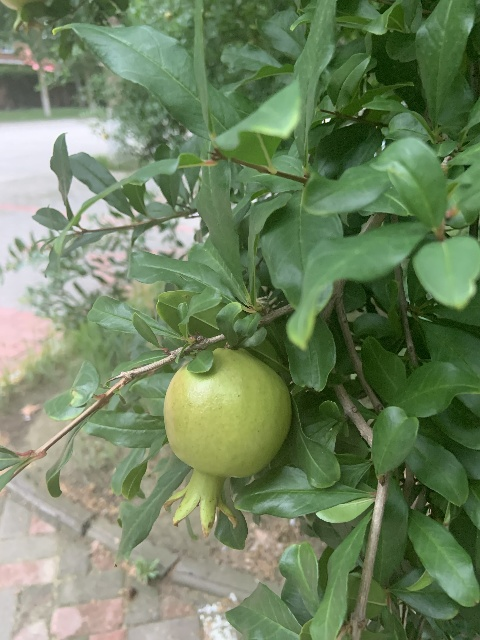mid-growth: (162, 346, 291, 537), (0, 0, 52, 34)
